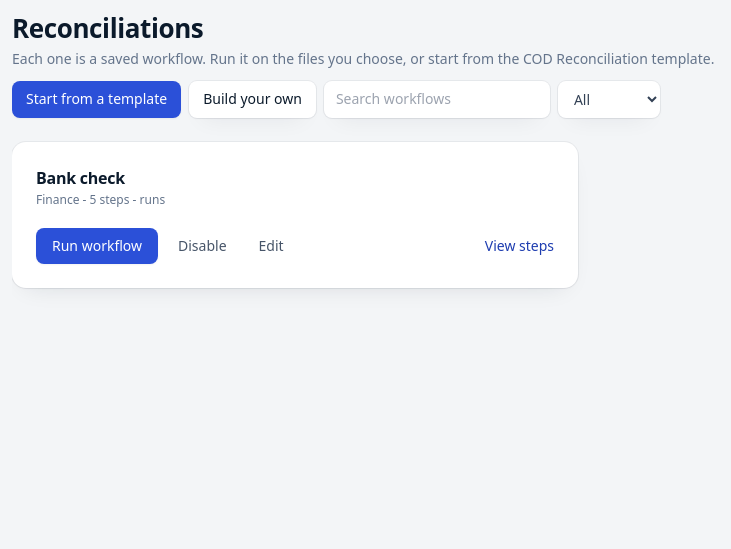
Test: workflows that ask for files › Run asks for the files first and does not start anything yet
Click the button "Run workflow" at (97, 246), box top-left (36, 228), bottom-right (158, 264)
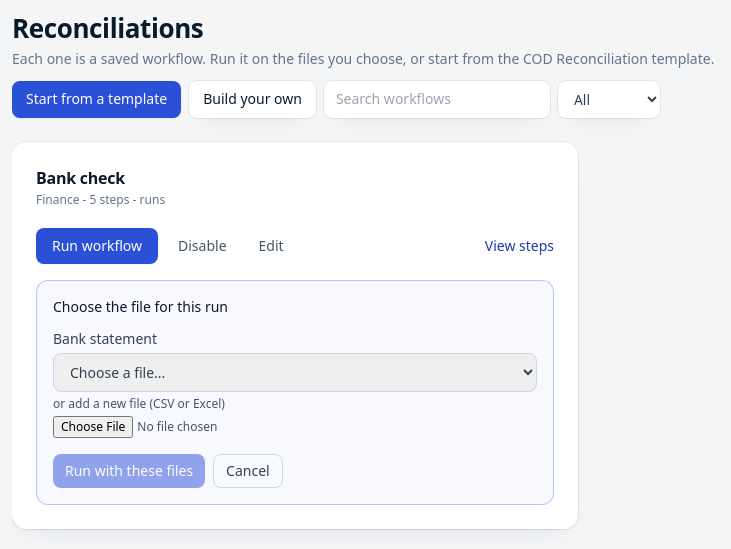
Expected: the element named "Choose files for this run" is shown, top-left (36, 280), bottom-right (554, 504)
